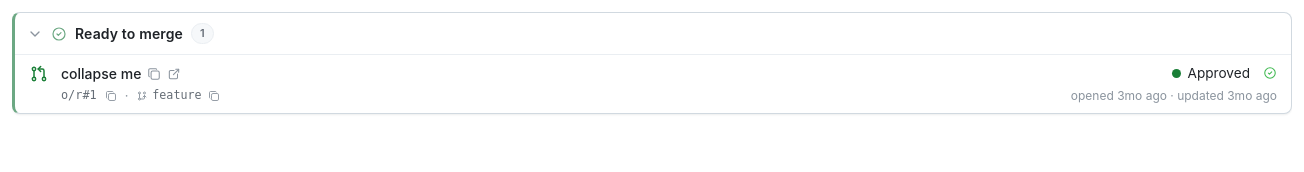
PRSections › collapses a section, hiding its rows, when its header is clicked
Expected: the text "collapse me" is shown, [61,63,141,84]
What coordinates should you click on to do the following:
click the text "Ready to merge"
I would click on:
 (129, 34)
Its box is [75,23,183,44].
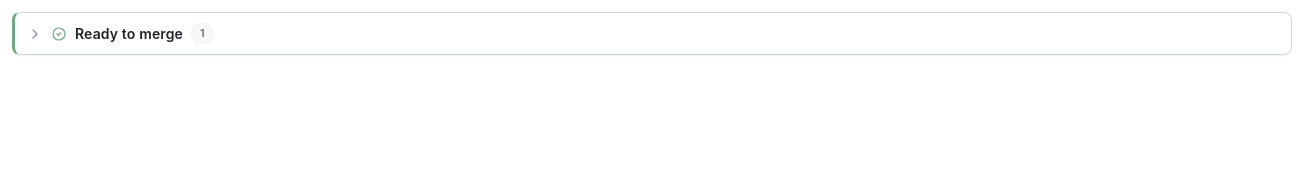
Result: the button "collapse me" is gone
